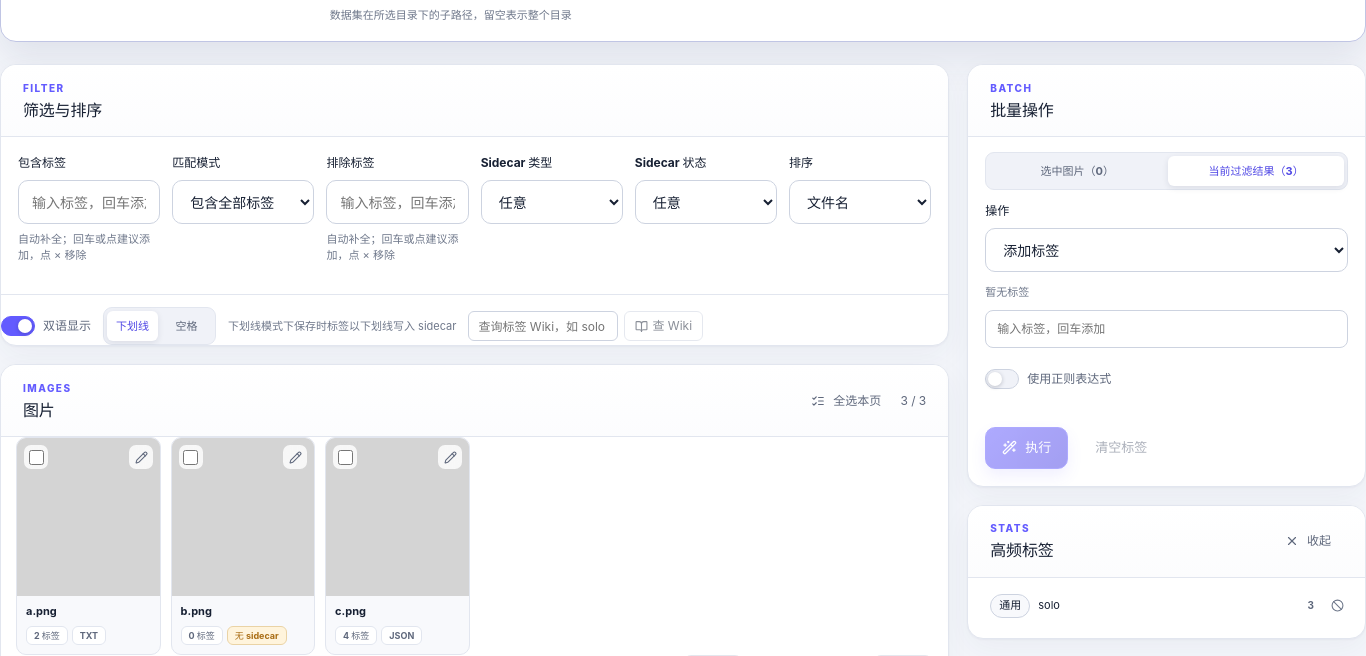
TagManager page › adds a high-frequency tag to the include filter from the stats panel
(page scrolled)
Click the button titled "筛选包含 solo": click(1010, 606) [983,589,1321,623]
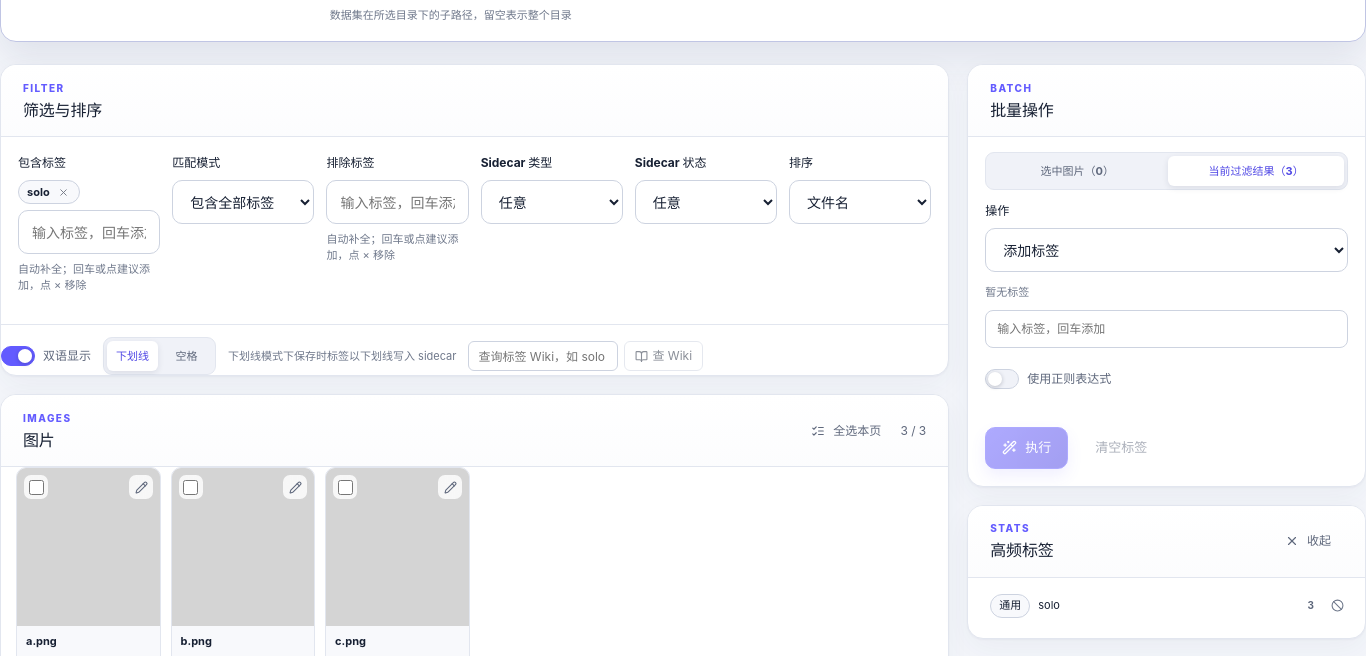
Expected: the button named "移除筛选 solo" is shown, [56,186,71,199]
